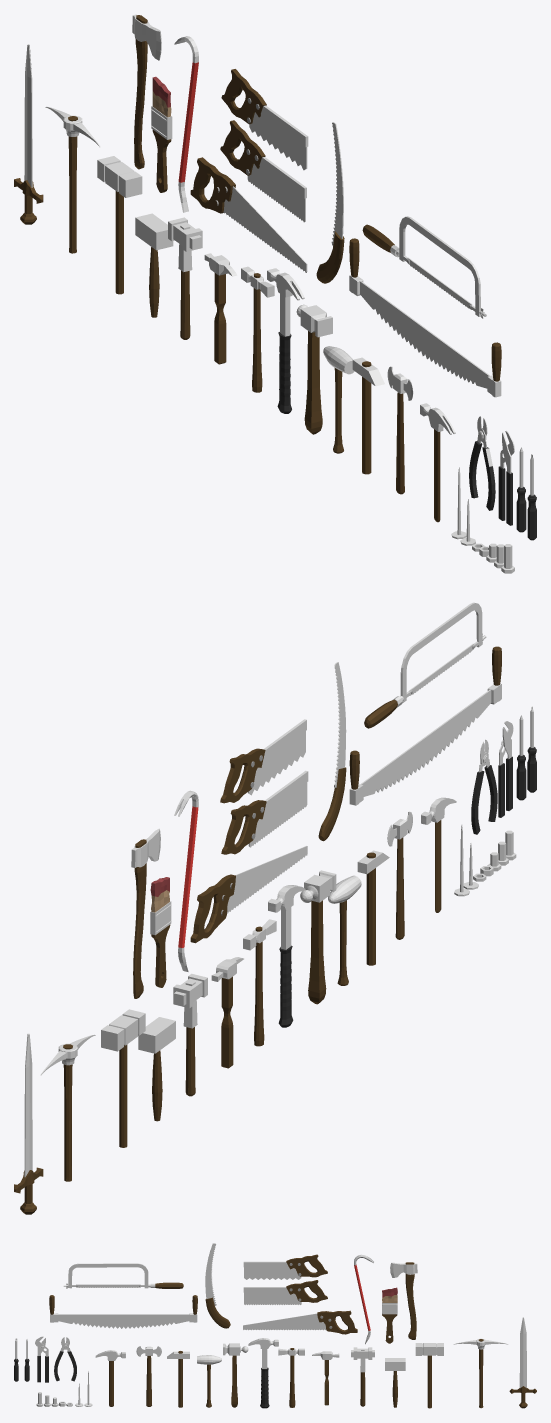
File: tools_mekmeesk.glb
3 renders of one model, top to bottom at view 1: azimuth 30°, elevation 25°; view 2: azimuth 150°, elevation 25°; view 3: azimuth 270°, elevation 25°, orthographic. The views are drawn at different scales.
Visible parts, largest first — view 1: saw_bandsaw, saw_big, saw_small_highcount, saw_small_lowcount, saw_precision, hammer_bangpop, hammer_cool, hammer_plastic, axe, hammer_kindathor, Cylinder, brush (+12 smaller); view 2: saw_bandsaw, saw_big, saw_small_highcount, saw_small_lowcount, saw_precision, hammer_bangpop, hammer_cool, axe, hammer_plastic, hammer_kindathor, Cylinder, brush (+12 smaller); view 3: saw_bandsaw, saw_big, saw_small_lowcount, saw_small_highcount, saw_precision, axe, saw_handsaw, Cylinder, hammer_plastic, hammer_cool, brush, hammer_kindathor (+12 smaller).
Part boxes in pixels (box(x1,y1,x2,y2)): saw_bandsaw: box(349, 238, 501, 397); saw_big: box(190, 157, 307, 272); saw_small_highcount: box(220, 120, 306, 222); saw_small_lowcount: box(221, 69, 308, 170); saw_precision: box(362, 216, 486, 318); hammer_bangpop: box(296, 304, 332, 434); hammer_cool: box(97, 156, 142, 294); hammer_plastic: box(267, 268, 304, 413); axe: box(132, 14, 161, 169); hammer_kindathor: box(168, 217, 202, 339); Cylinder: box(14, 44, 43, 224); brush: box(151, 76, 172, 192); saw_bandsaw: box(349, 646, 501, 805); saw_big: box(190, 846, 307, 943); saw_small_highcount: box(221, 770, 308, 854); saw_small_lowcount: box(220, 719, 306, 803); saw_precision: box(364, 602, 486, 728); hammer_bangpop: box(300, 870, 336, 1004); hammer_cool: box(101, 1009, 145, 1147); axe: box(131, 828, 160, 998); hammer_plastic: box(268, 885, 305, 1027); hammer_kindathor: box(173, 973, 207, 1096); Cylinder: box(14, 1033, 43, 1214); brush: box(150, 877, 171, 987); saw_bandsaw: box(49, 1295, 197, 1328); saw_big: box(243, 1310, 357, 1334); saw_small_lowcount: box(243, 1254, 327, 1279); saw_small_highcount: box(243, 1280, 327, 1304); saw_precision: box(63, 1263, 183, 1288); axe: box(390, 1262, 417, 1339); saw_handsaw: box(205, 1243, 230, 1328); Cylinder: box(509, 1317, 536, 1408); hammer_plastic: box(248, 1338, 278, 1408); hammer_cool: box(415, 1343, 443, 1408); brush: box(382, 1287, 397, 1343); hammer_kindathor: box(351, 1347, 374, 1406).
Bounding box in the file's own units: 2.67 × 39 × 113.
